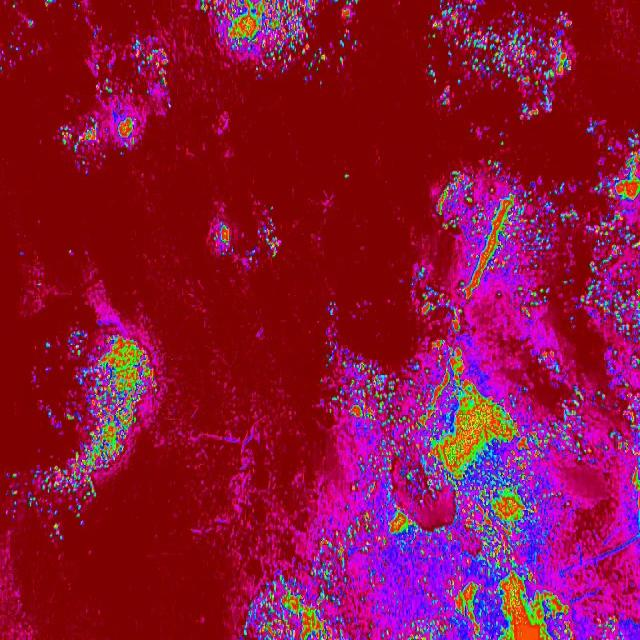fire: (342, 351, 574, 640), (432, 177, 554, 321), (421, 11, 580, 83), (583, 172, 640, 342), (198, 0, 321, 62), (239, 572, 342, 640), (12, 463, 96, 527), (90, 344, 130, 464), (611, 341, 640, 494), (408, 286, 464, 348), (53, 116, 107, 174), (128, 339, 157, 425), (135, 36, 174, 86), (589, 605, 640, 640), (109, 97, 142, 145), (208, 213, 241, 257), (517, 84, 552, 125), (310, 532, 342, 573), (258, 217, 286, 257), (430, 85, 460, 114)
